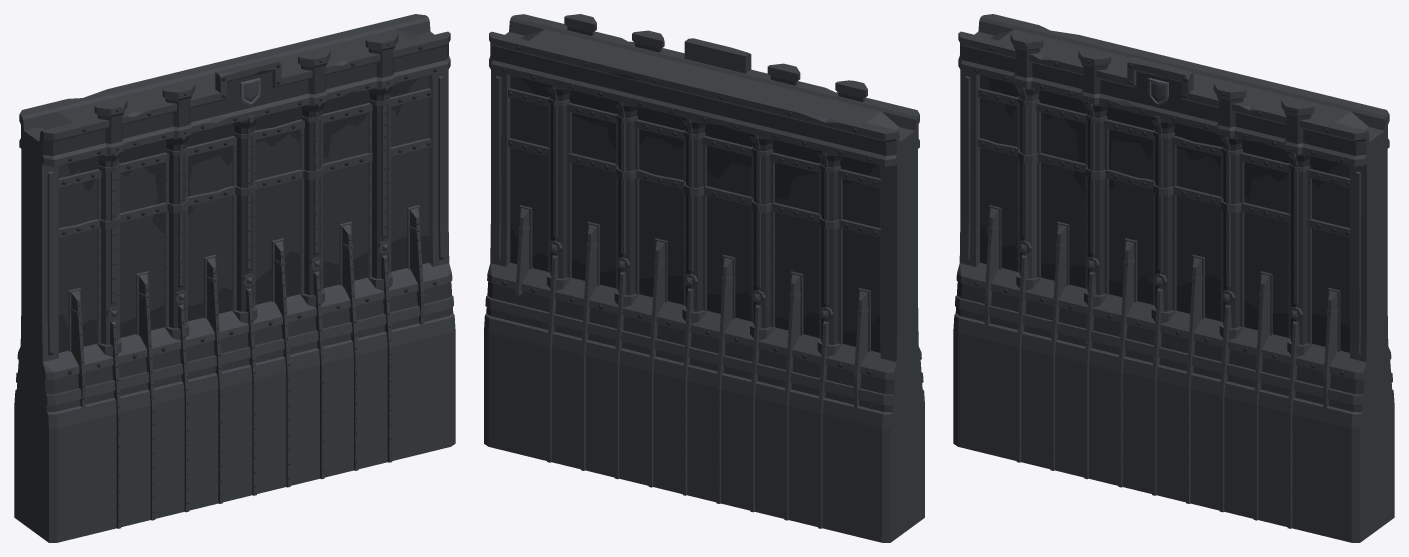
Rendered from SM_Bld_Gate_Fort_01.fbx.
3 renders of one model, left to right at view 1: azimuth 30°, elevation 25°; view 2: azimuth 150°, elevation 25°; view 3: azimuth 330°, elevation 25°, orthographic.
Visible parts, largest first — view 1: SM_Bld_Gate_Fort_01_LOD0; view 2: SM_Bld_Gate_Fort_01_LOD0; view 3: SM_Bld_Gate_Fort_01_LOD0.
Part boxes in pixels (<box>): SM_Bld_Gate_Fort_01_LOD0: <box>14,14,455,542</box>; SM_Bld_Gate_Fort_01_LOD0: <box>484,14,924,542</box>; SM_Bld_Gate_Fort_01_LOD0: <box>953,14,1394,542</box>.
Size of what is drawn, in the model's own units: 3000 by 2990 by 533.
